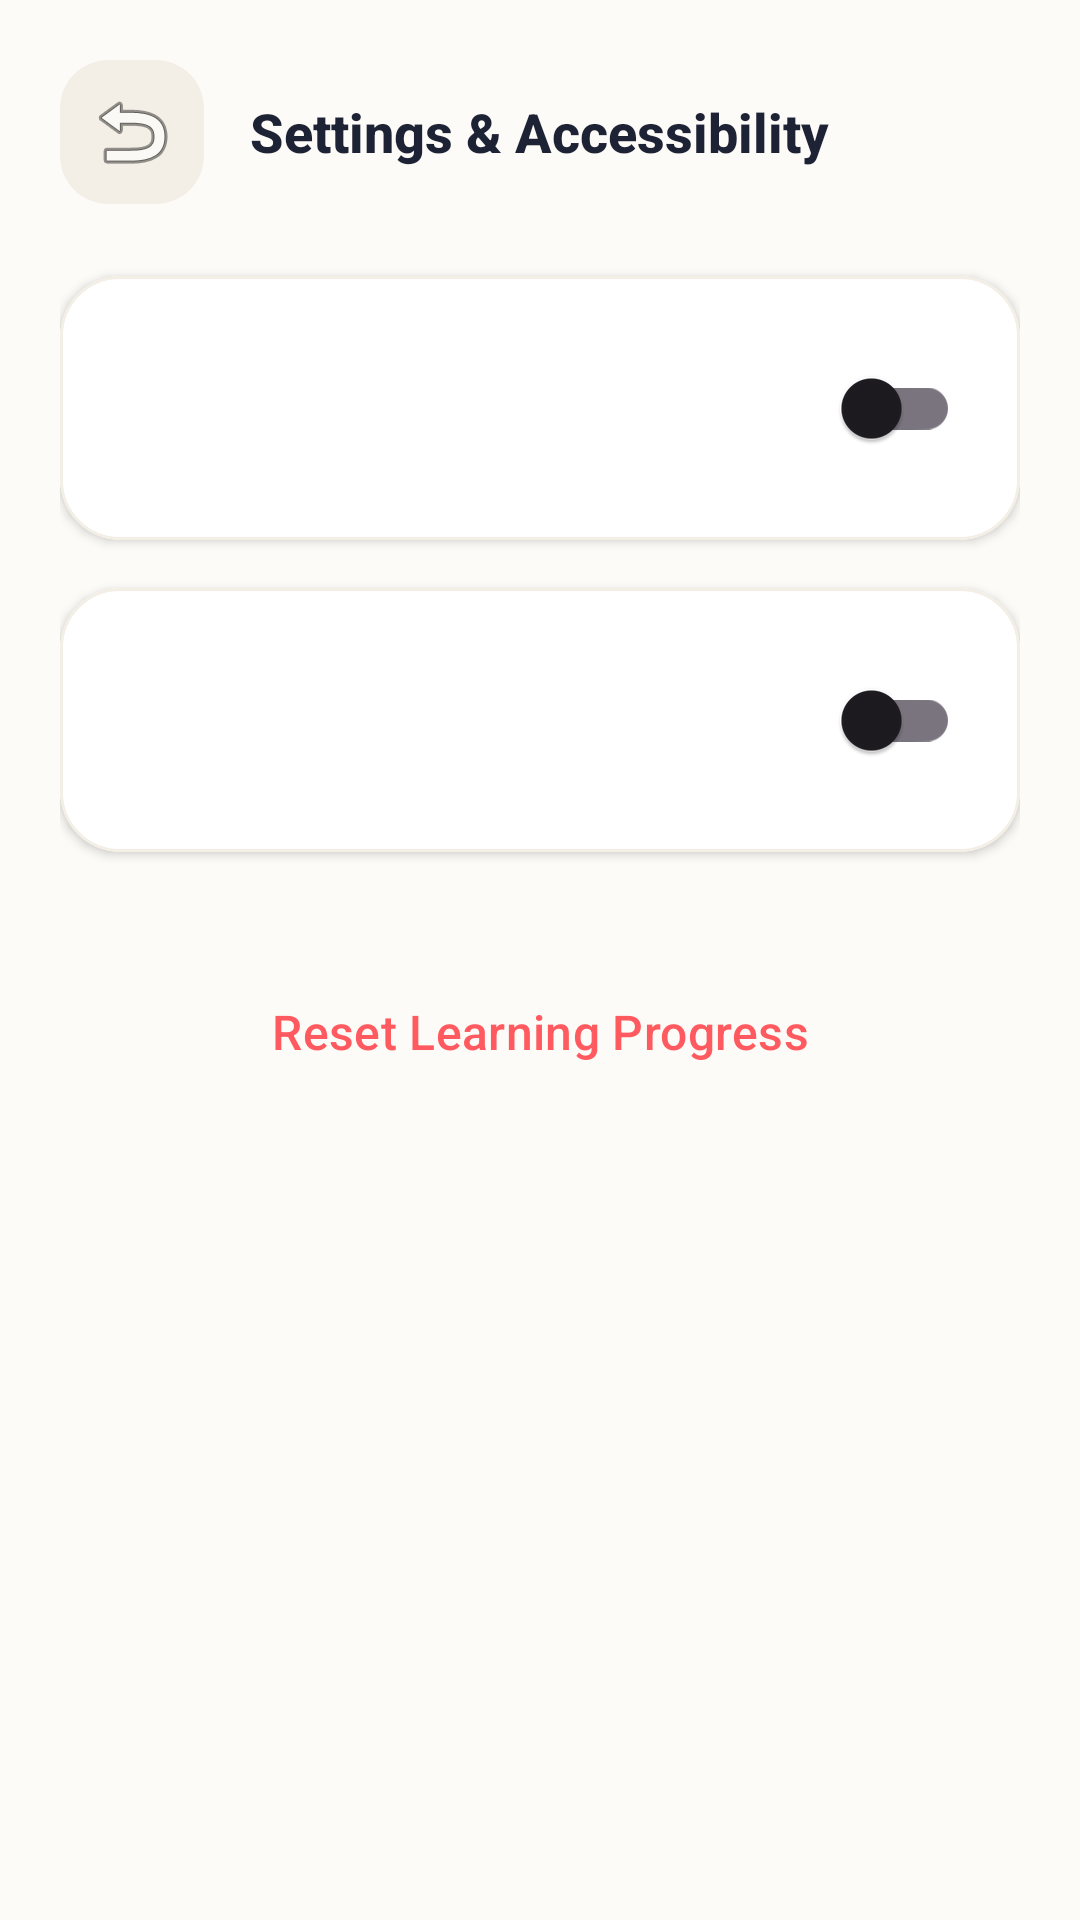

Icons on this 1080x1920 Android screen, each with its box as (x1, y1, x2, y2):
Back: (60, 60, 204, 204)
